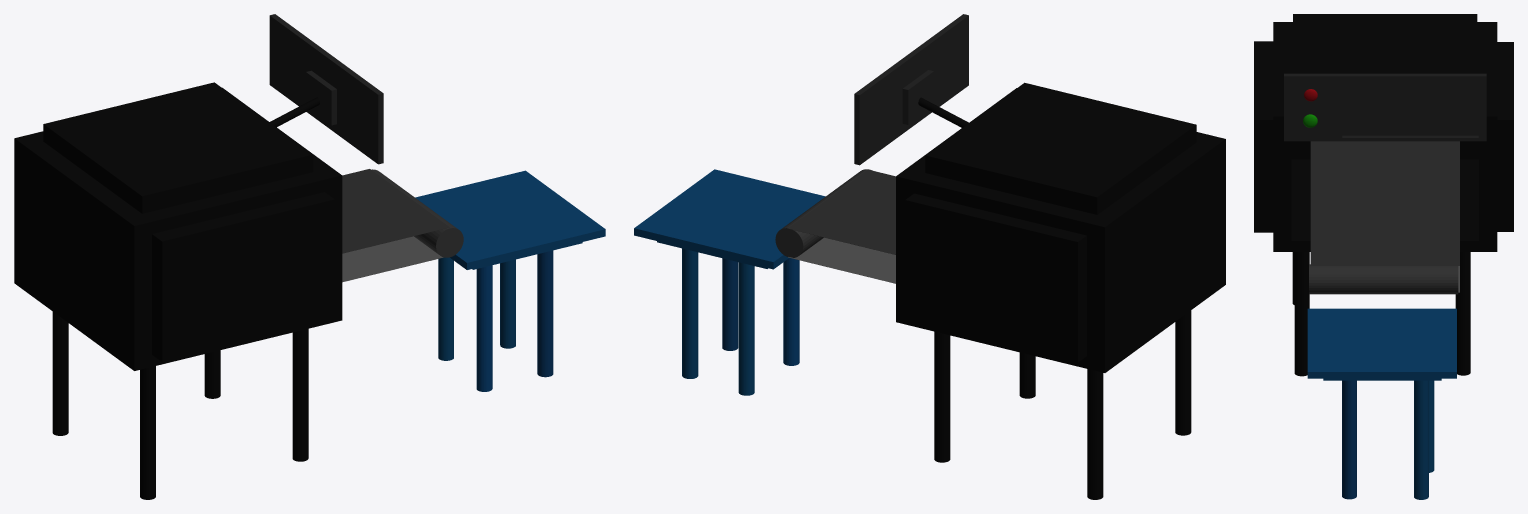
File: lopende-band.gltf
3 views of the same model, side by side, from view 1: azimuth 30°, elevation 25°; view 2: azimuth 150°, elevation 25°; view 3: azimuth 270°, elevation 25° (orthographic). The views are drawn at different scales.
Visible parts, largest first — view 1: Cube.004, Cube.005, Cube.006, Cube.002, Cube.003, Cylinder.009, Cylinder.003, Cylinder.010, Cylinder.007, Cylinder.006, Cylinder.011, Cylinder.004 (+3 smaller); view 2: Cube.004, Cube.005, Cube.006, Cube.002, Cube.003, Cylinder.011, Cylinder.008, Cylinder.006, Cylinder.004, Cylinder.007, Cylinder.010, Cylinder.003 (+3 smaller); view 3: Cube.004, Cube.002, Cube.006, Cube.005, Cylinder.002, Cylinder.009, Cylinder.004, Cylinder.003, Cylinder.008, Cylinder.011.
Boxes of the visible parts, left/top/right/bottom form: Cube.004: left=14, top=82, right=342, bottom=370; Cube.005: left=415, top=170, right=605, bottom=269; Cube.006: left=269, top=14, right=383, bottom=164; Cube.002: left=342, top=169, right=449, bottom=253; Cube.003: left=342, top=236, right=443, bottom=282; Cylinder.009: left=292, top=328, right=308, bottom=461; Cylinder.003: left=537, top=250, right=553, bottom=377; Cylinder.010: left=476, top=265, right=492, bottom=391; Cylinder.007: left=140, top=366, right=155, bottom=499; Cylinder.006: left=52, top=311, right=68, bottom=435; Cylinder.011: left=438, top=257, right=453, bottom=360; Cylinder.004: left=500, top=259, right=515, bottom=348; Cube.004: left=896, top=82, right=1225, bottom=372; Cube.005: left=634, top=169, right=825, bottom=269; Cube.006: left=854, top=14, right=968, bottom=165; Cube.002: left=788, top=169, right=895, bottom=254; Cube.003: left=788, top=237, right=895, bottom=283; Cylinder.011: left=738, top=262, right=754, bottom=395; Cylinder.008: left=934, top=331, right=950, bottom=462; Cylinder.006: left=1087, top=369, right=1103, bottom=499; Cylinder.004: left=682, top=248, right=698, bottom=378; Cylinder.007: left=1175, top=310, right=1191, bottom=435; Cylinder.010: left=783, top=258, right=799, bottom=365; Cylinder.003: left=722, top=258, right=738, bottom=350; Cube.004: left=1254, top=14, right=1513, bottom=251; Cube.002: left=1310, top=141, right=1459, bottom=265; Cube.006: left=1284, top=73, right=1486, bottom=141; Cube.005: left=1307, top=308, right=1456, bottom=380; Cylinder.002: left=1309, top=264, right=1458, bottom=294; Cylinder.009: left=1294, top=252, right=1309, bottom=376; Cylinder.004: left=1414, top=380, right=1428, bottom=499; Cylinder.003: left=1342, top=380, right=1356, bottom=499; Cylinder.008: left=1455, top=252, right=1470, bottom=375; Cylinder.011: left=1429, top=380, right=1434, bottom=472.
Size of what is drawn, in the model's own units: 7.07 by 4.88 by 3.48.
